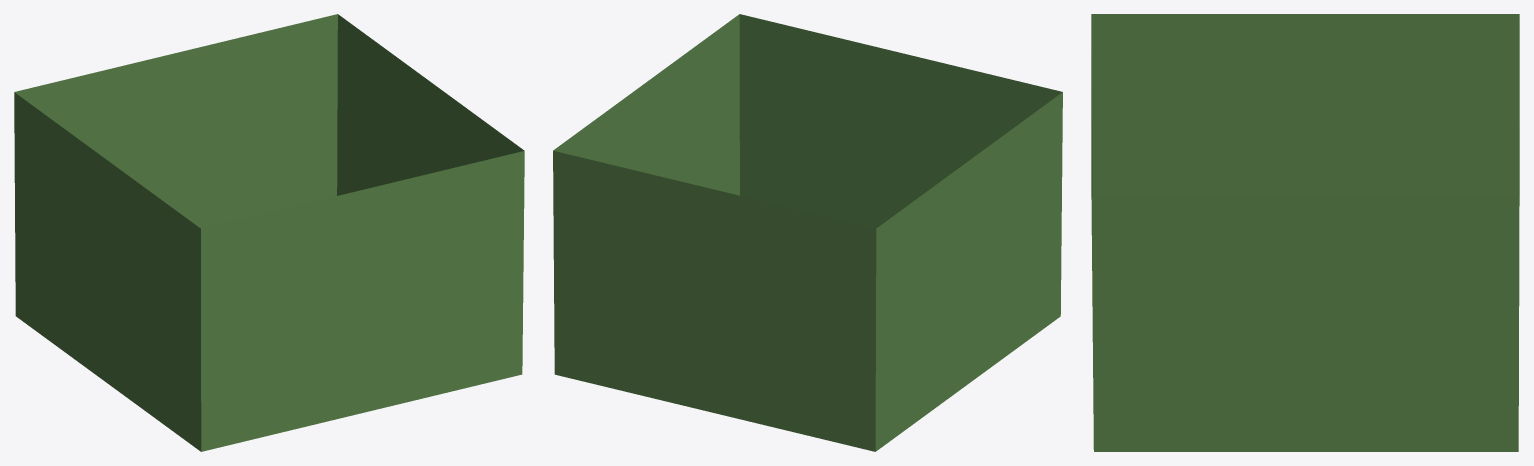
The model's file is greenOnionCut.fbx.
3 views of the same model, side by side, from view 1: azimuth 30°, elevation 25°; view 2: azimuth 150°, elevation 25°; view 3: azimuth 270°, elevation 25° (orthographic). The views are drawn at different scales.
Parts seen in each view (by area): view 1: greenOnionCut; view 2: greenOnionCut; view 3: greenOnionCut.
Boxes of the visible parts, x1,y1,x2,y2 form: greenOnionCut: (14, 14, 524, 451); greenOnionCut: (553, 14, 1062, 451); greenOnionCut: (1091, 14, 1519, 451).
Size of the model in its own units: 0.5832 by 0.3876 by 0.5832.
Materials: 1 (1 with a texture image).
